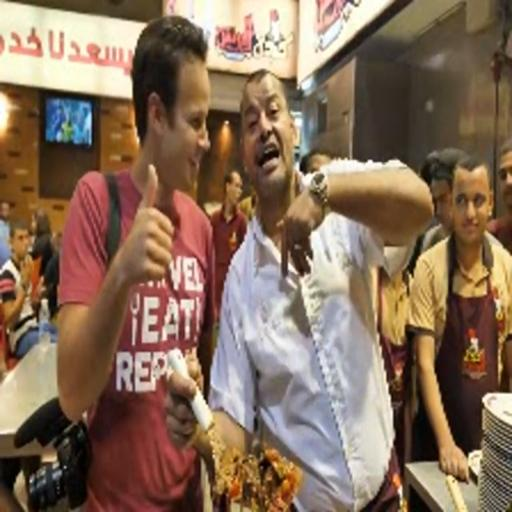nao-violencia: (48, 7, 436, 508)
